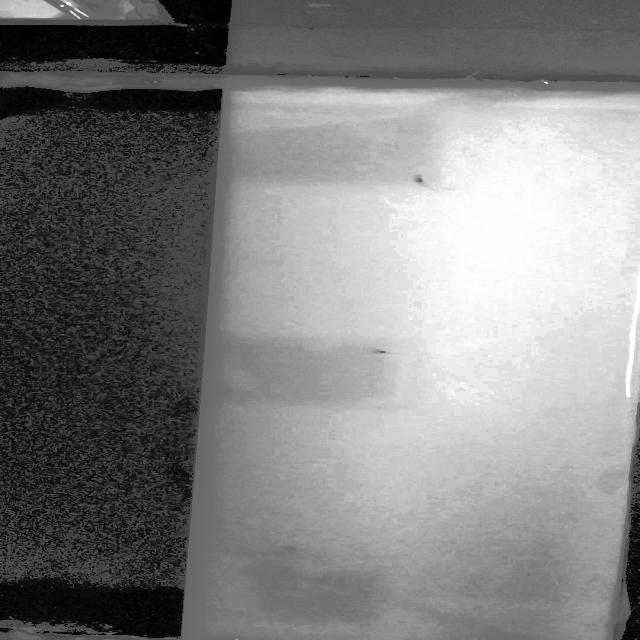shrimp: (360, 343, 400, 361), (406, 172, 433, 190)
